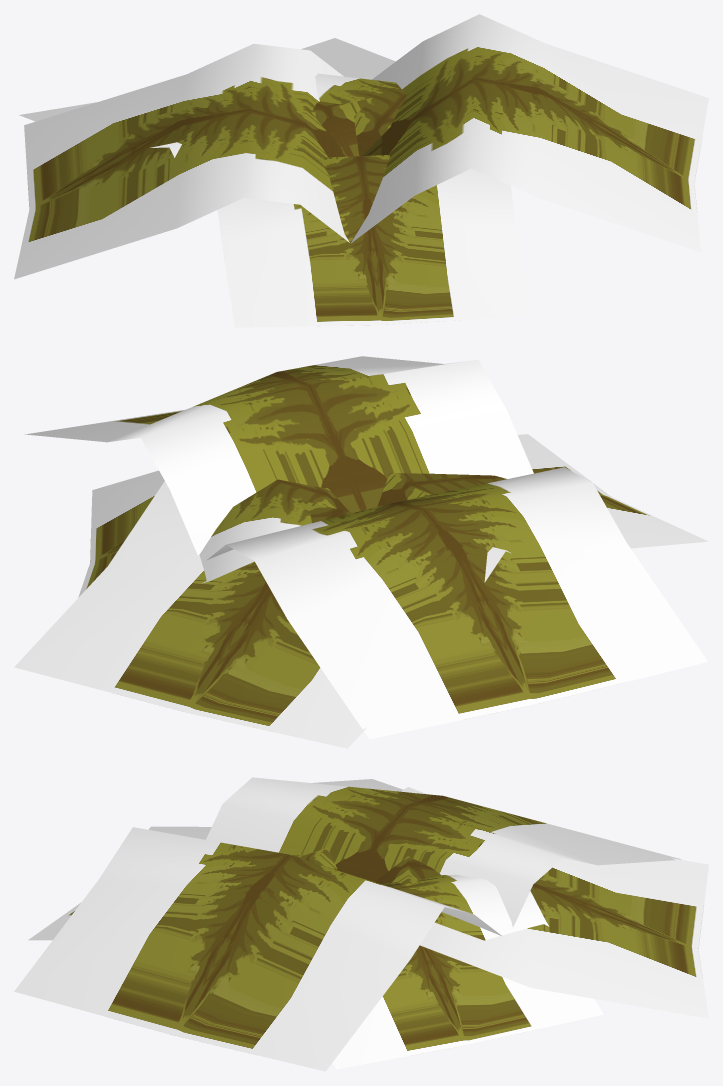
The model's file is Fern_Bush_Dark_2.fbx.
The picture shows the model from 3 angles, top to bottom: view 1: azimuth 30°, elevation 25°; view 2: azimuth 150°, elevation 25°; view 3: azimuth 270°, elevation 25°; orthographic projection. The views are drawn at different scales.
Parts seen in each view (by area): view 1: Fern_Bush_Dark_2; view 2: Fern_Bush_Dark_2; view 3: Fern_Bush_Dark_2.
Part boxes in pixels (x1,y1,x2,y2): Fern_Bush_Dark_2: (14, 14, 708, 327); Fern_Bush_Dark_2: (14, 356, 708, 748); Fern_Bush_Dark_2: (14, 777, 708, 1071).
Bounding box in the file's own units: 2.12 × 0.4178 × 1.91.
